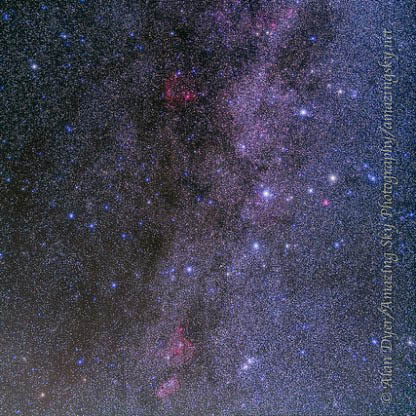Cassiopeia: (304, 168, 342, 194), (291, 99, 320, 124), (174, 255, 199, 282), (255, 182, 280, 207), (243, 235, 266, 260)
